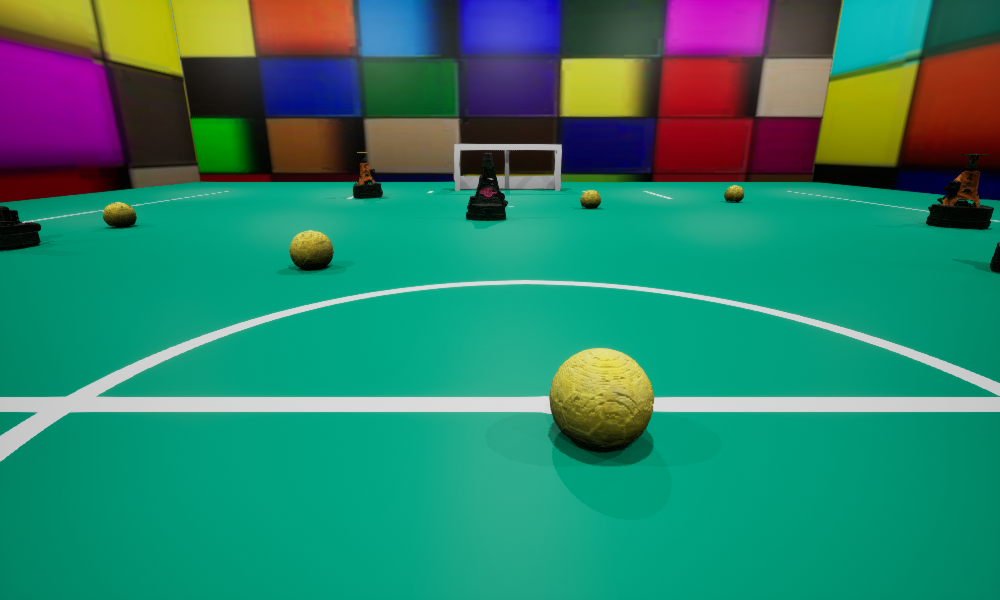b: (549, 348, 653, 451), (289, 230, 333, 268), (103, 202, 136, 226), (580, 190, 600, 208), (724, 185, 743, 201)
o: (926, 154, 993, 229), (353, 152, 382, 198)
p1: (466, 153, 507, 220), (990, 242, 999, 272)
p2: (0, 206, 40, 250)
